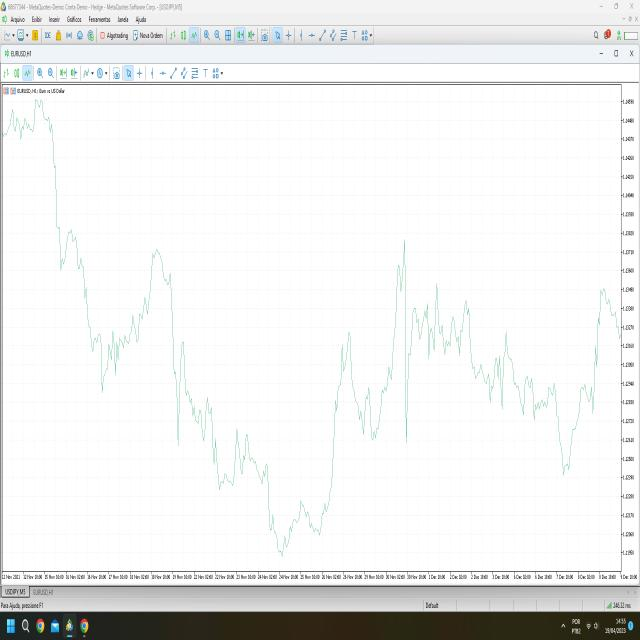bandeira_baixa: (44, 114, 89, 284)
fundo_duplo: (249, 388, 338, 564)
